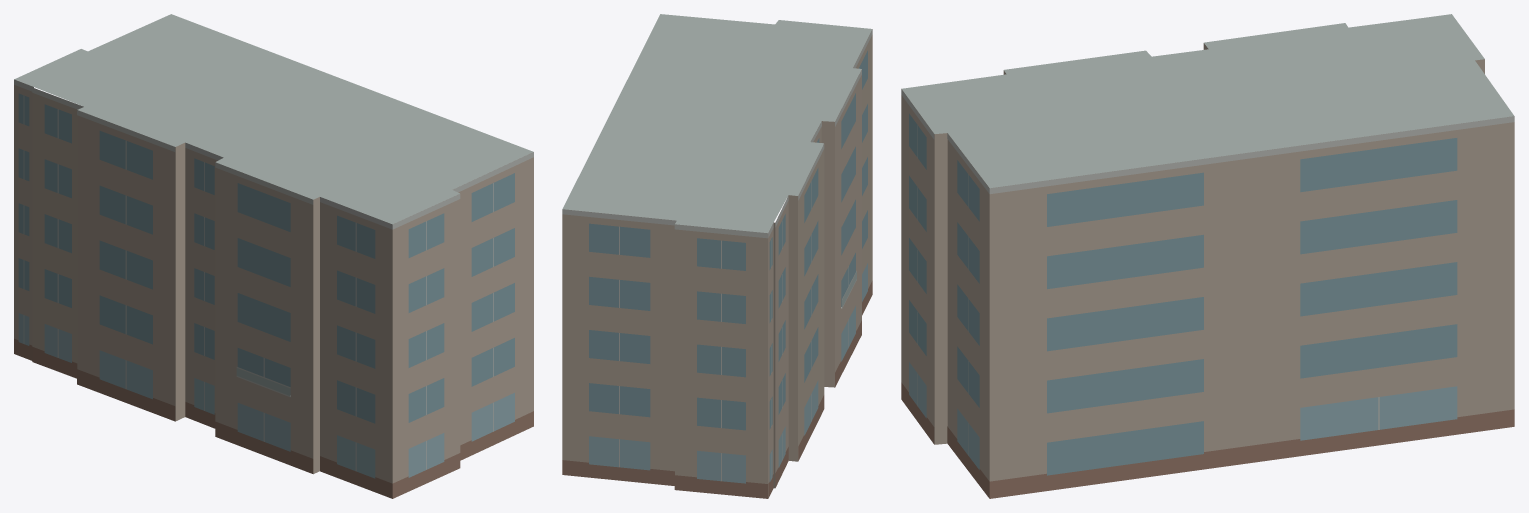
Rendered from survey-upis-32658513.glb.
3 renders of one model, left to right at view 1: azimuth 30°, elevation 25°; view 2: azimuth 150°, elevation 25°; view 3: azimuth 270°, elevation 25°, orthographic. The views are drawn at different scales.
Parts seen in each view (by area): view 1: survey-upis-32658513.tmp; view 2: survey-upis-32658513.tmp; view 3: survey-upis-32658513.tmp.
Part boxes in pixels (bbox=[...]): survey-upis-32658513.tmp: bbox=[14, 14, 533, 498]; survey-upis-32658513.tmp: bbox=[562, 14, 872, 498]; survey-upis-32658513.tmp: bbox=[901, 14, 1514, 498].
Size of the model in its own units: 15.27 by 12.68 by 22.69.
